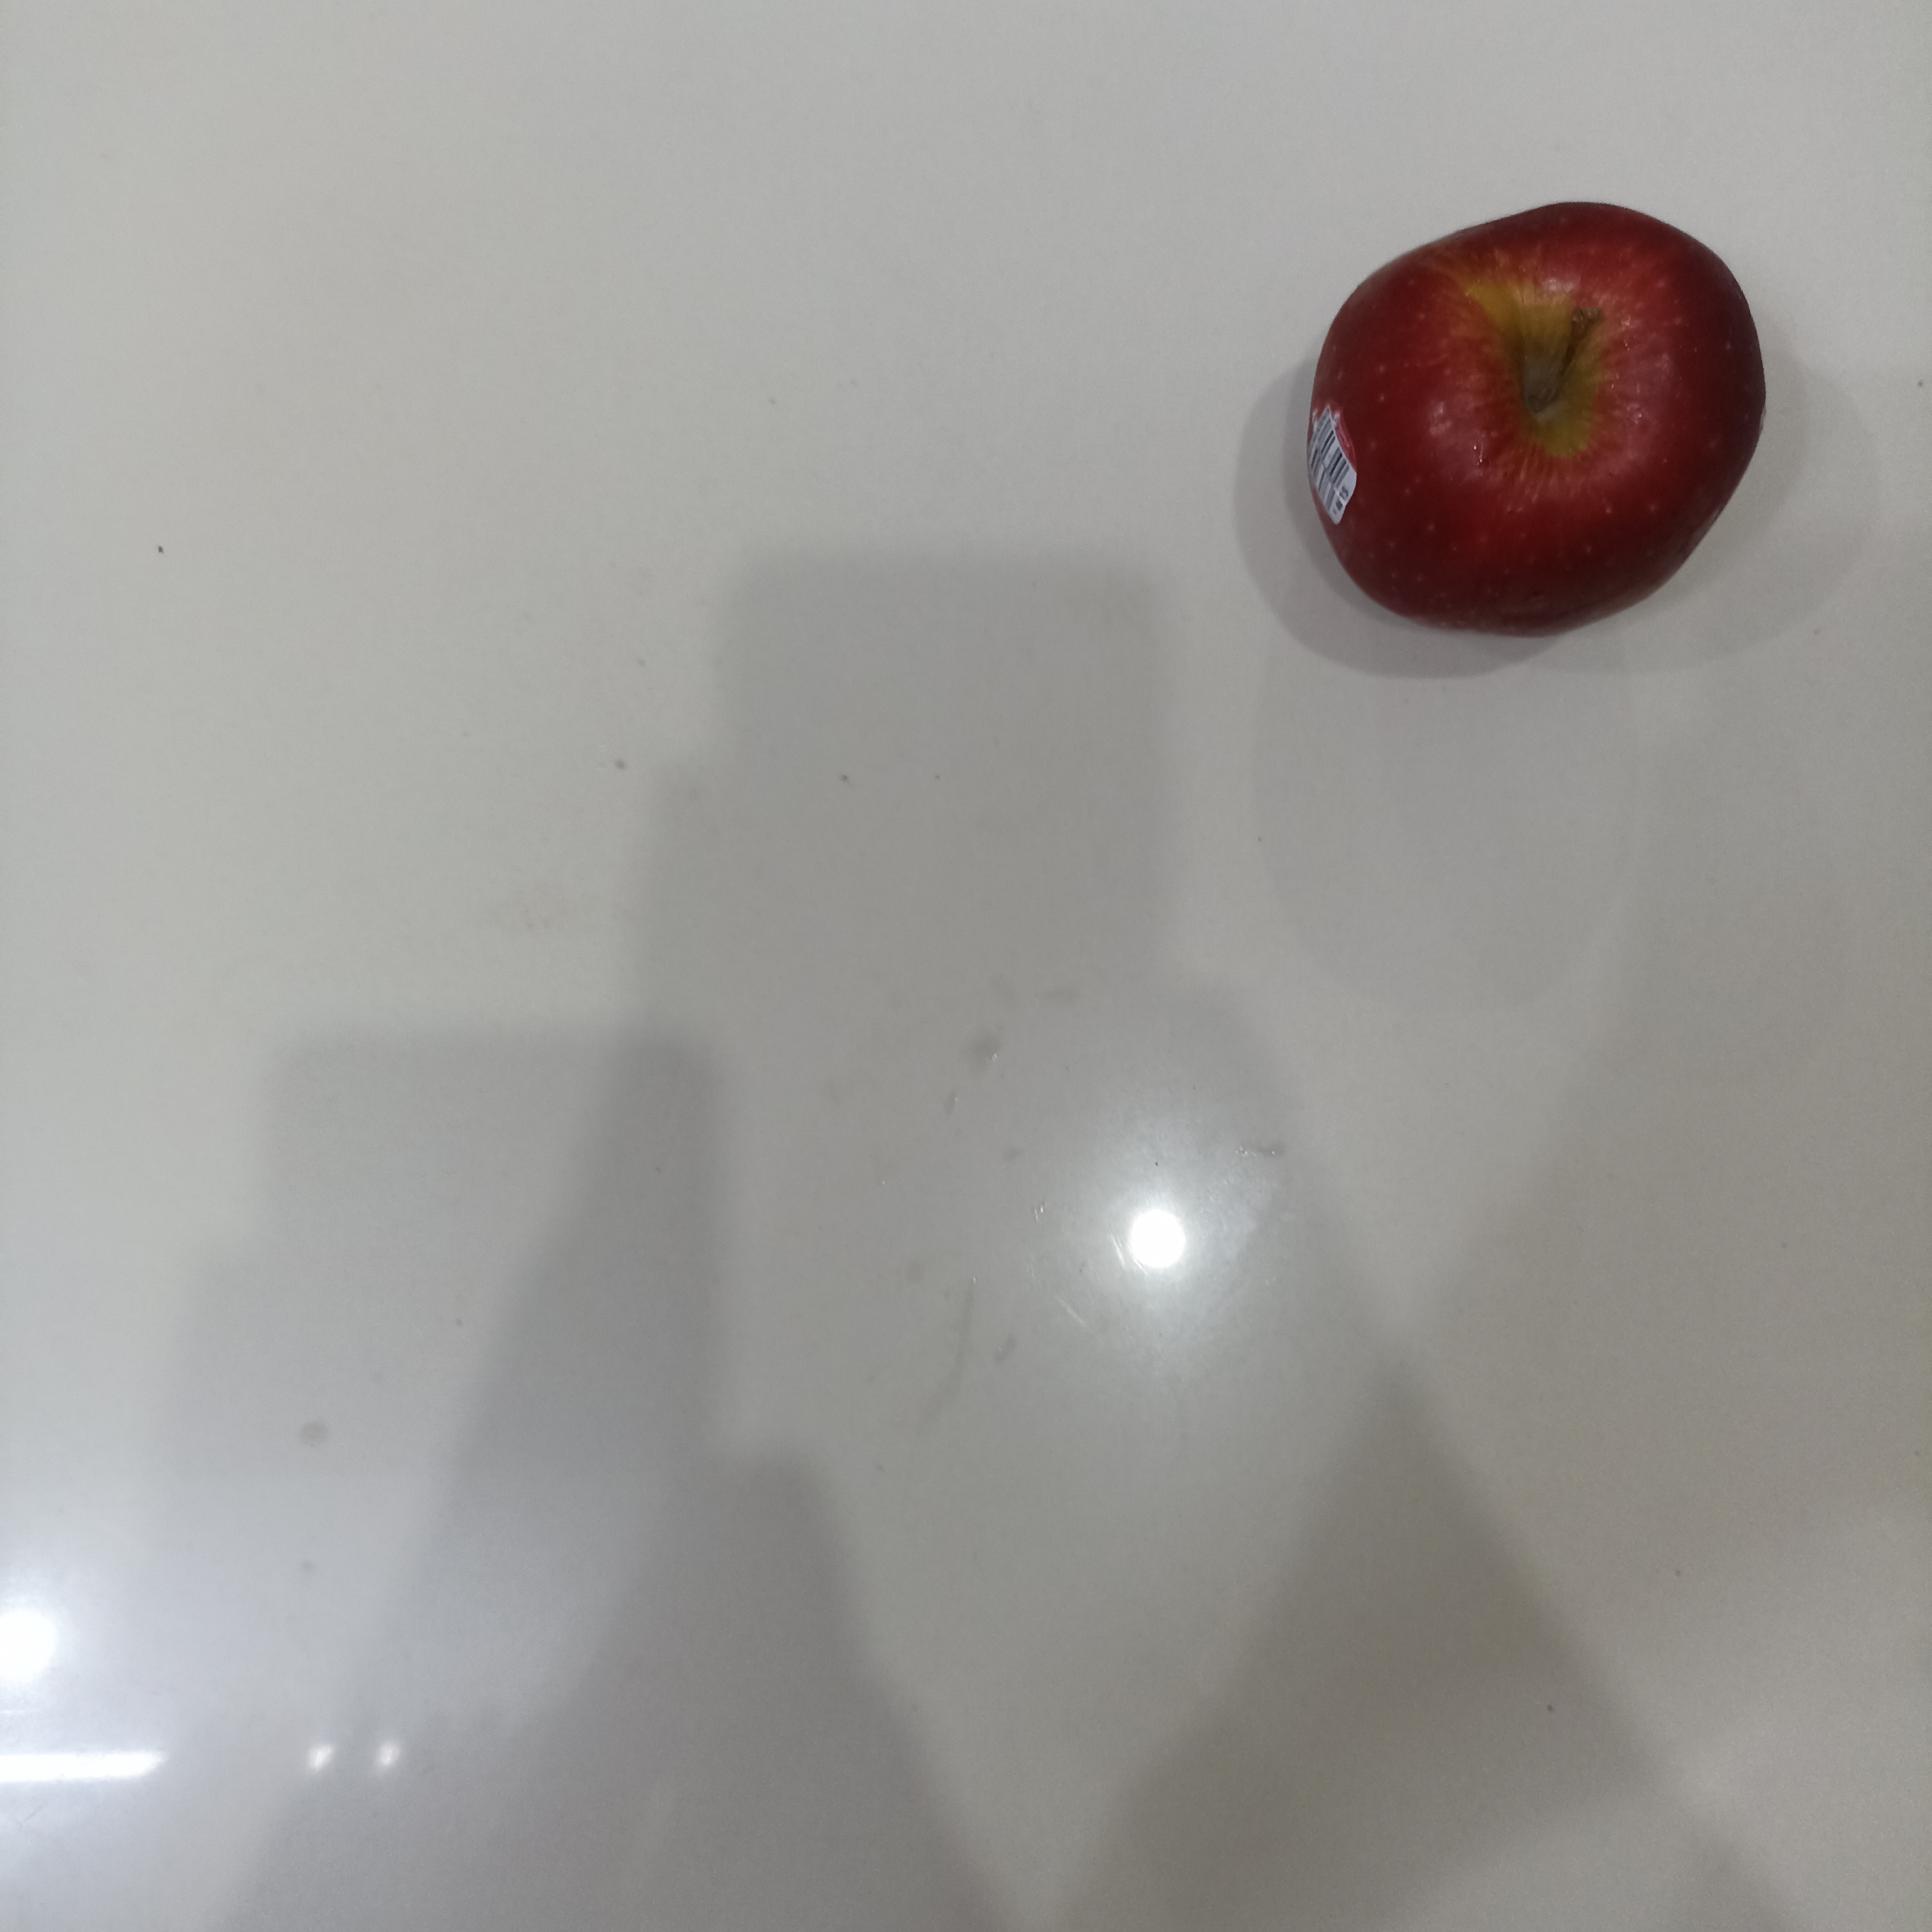Tao do: (1309, 198, 1774, 638)
